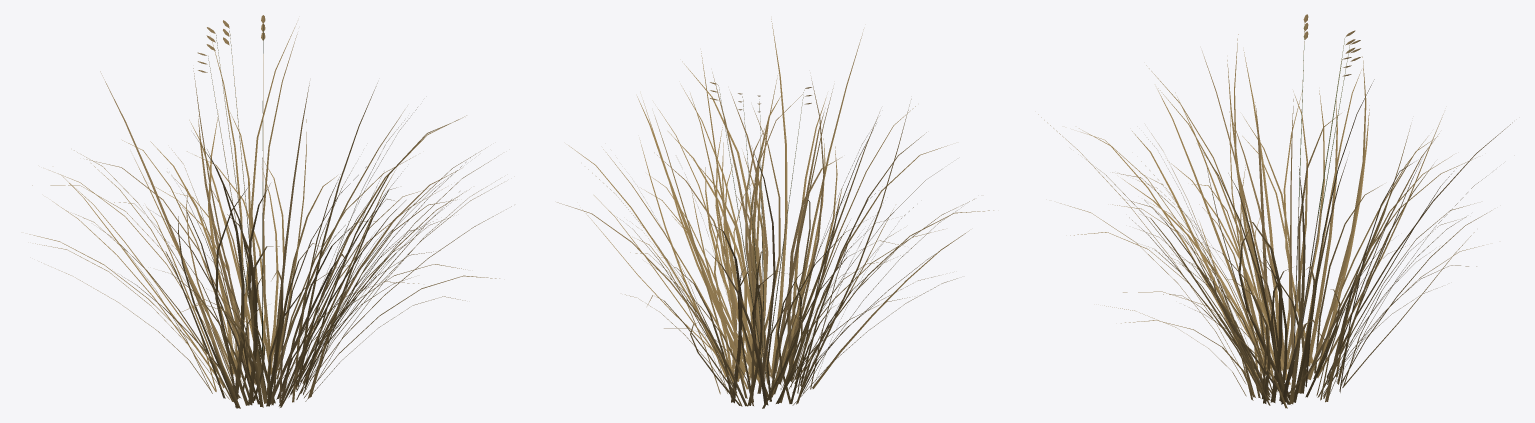
Rendered from SM_CN_Grass_B.glb.
The picture shows the model from 3 angles, left to right: view 1: azimuth 30°, elevation 25°; view 2: azimuth 150°, elevation 25°; view 3: azimuth 270°, elevation 25°; orthographic projection. The views are drawn at different scales.
Parts seen in each view (by area): view 1: SM_CN_Grass_B; view 2: SM_CN_Grass_B; view 3: SM_CN_Grass_B.
Boxes of the visible parts, x1,y1,x2,y2 form: SM_CN_Grass_B: (29, 15, 511, 408); SM_CN_Grass_B: (557, 19, 993, 408); SM_CN_Grass_B: (1038, 14, 1512, 408).
Size of the model in its own units: 0.88 by 0.64 by 0.8264.
1 material, 1 textured.
